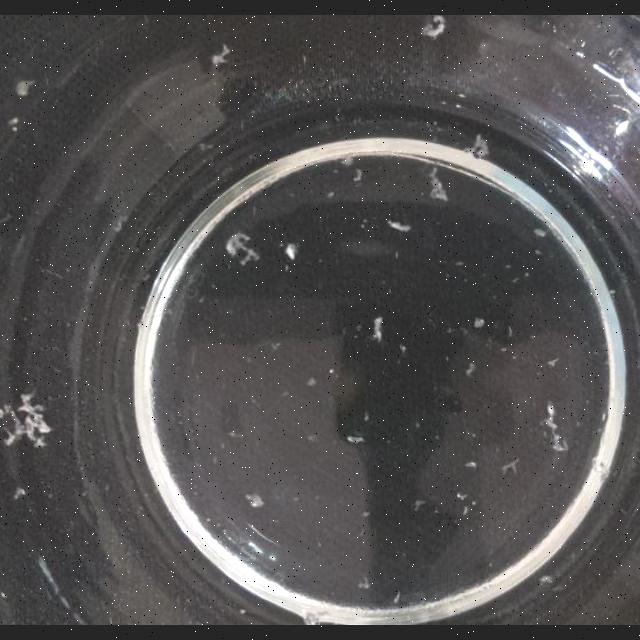Fibre: (0, 396, 50, 446), (541, 404, 569, 452), (427, 168, 449, 202), (465, 134, 489, 160), (422, 15, 446, 40), (210, 44, 230, 68), (502, 458, 520, 476), (16, 80, 36, 96), (372, 316, 384, 342), (246, 493, 264, 509), (284, 242, 300, 260), (358, 576, 370, 590), (8, 118, 20, 132), (466, 362, 476, 378), (14, 488, 26, 500), (474, 317, 486, 329), (352, 168, 362, 182), (342, 156, 354, 167), (414, 500, 426, 510), (534, 228, 546, 238), (464, 461, 476, 469)
microbeads: (306, 376, 318, 386), (457, 492, 468, 501), (399, 344, 407, 356), (328, 368, 336, 376), (415, 421, 421, 429)
